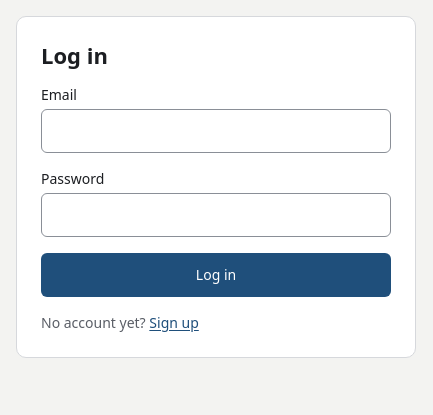
auth screens › checks the credentials with the shared limits before sending anything
In the field labelled "Email": (216, 131) [41,109,391,153], type "not-an-email"
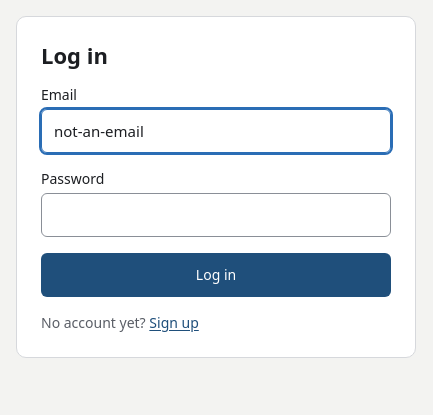
In the password field labelled "Password": (216, 215) [41,193,391,237], type "short"
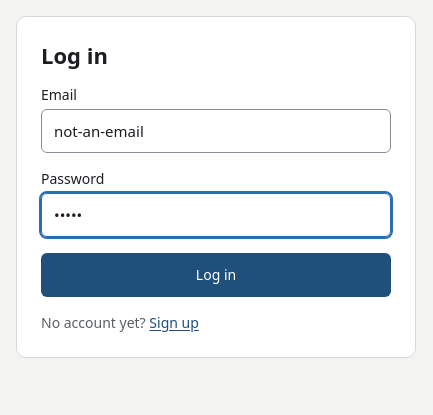
Click the button "Log in": (216, 275) [41,253,391,297]
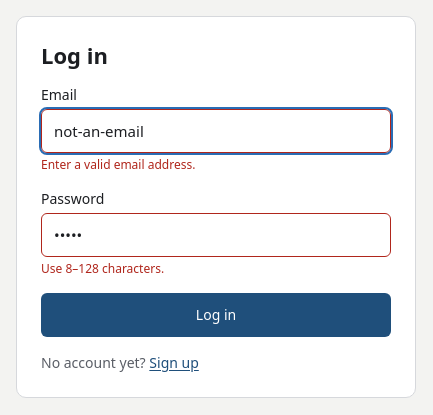
Expected: the text "Enter a valid email address." is shown, [41,156,195,173]
Expected: the text "Use 8–128 characters." is shown, [41,260,164,277]
